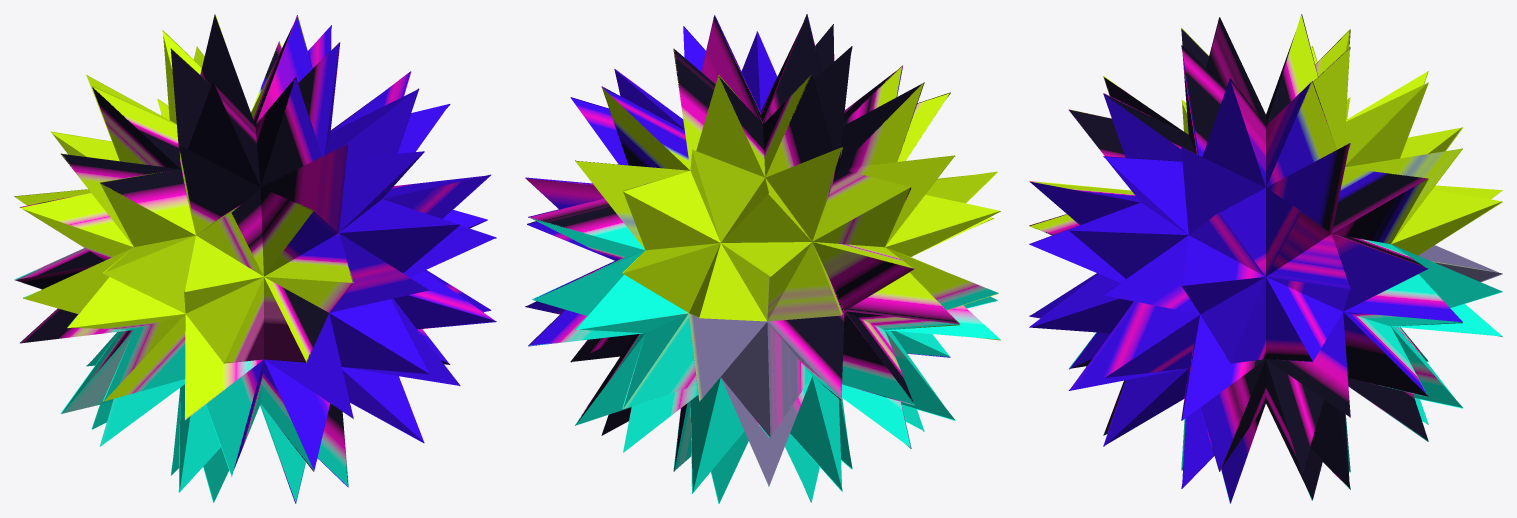
File: light.gltf
3 views of the same model, side by side, from view 1: azimuth 30°, elevation 25°; view 2: azimuth 150°, elevation 25°; view 3: azimuth 270°, elevation 25° (orthographic).
Visible parts, largest first — view 1: Icosphere; view 2: Icosphere; view 3: Icosphere.
Part boxes in pixels (bbox=[...]): Icosphere: bbox=[14, 14, 496, 503]; Icosphere: bbox=[525, 14, 1000, 503]; Icosphere: bbox=[1029, 14, 1502, 503].
Size of the model in its own units: 3.36 by 3.2 by 3.22.
1 material, 1 textured.
